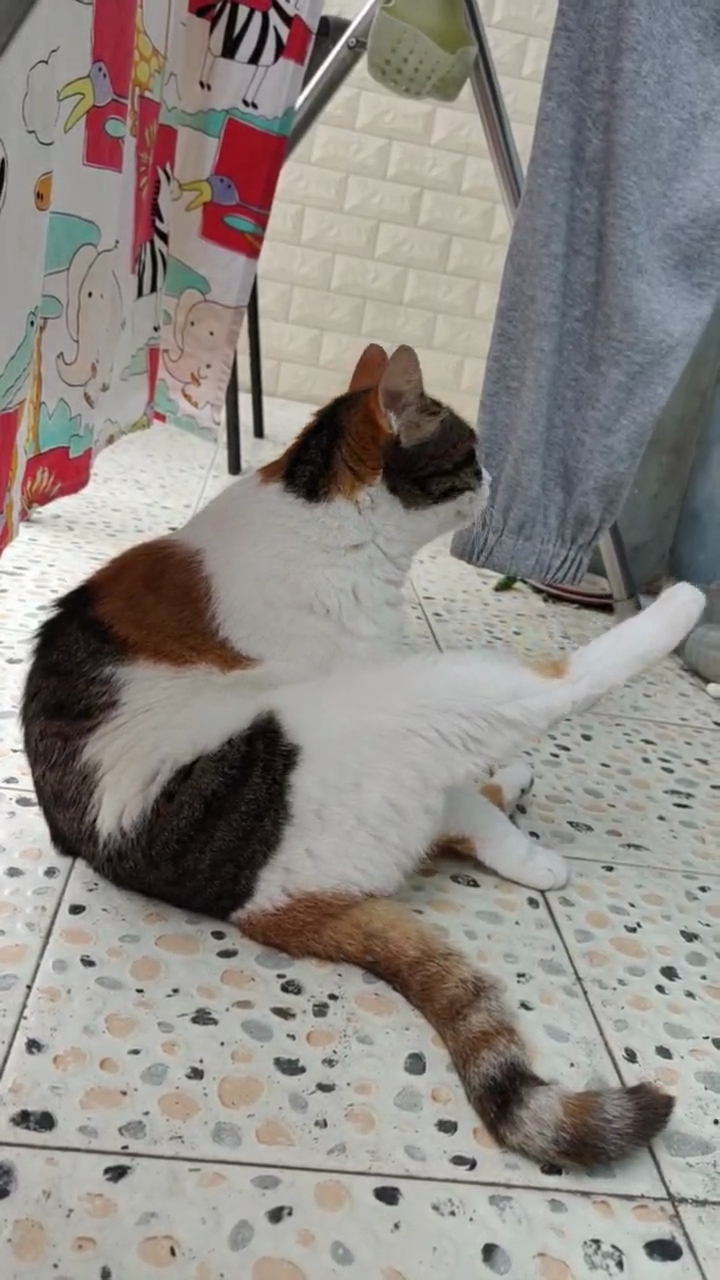猫: (240, 374, 510, 1062)
